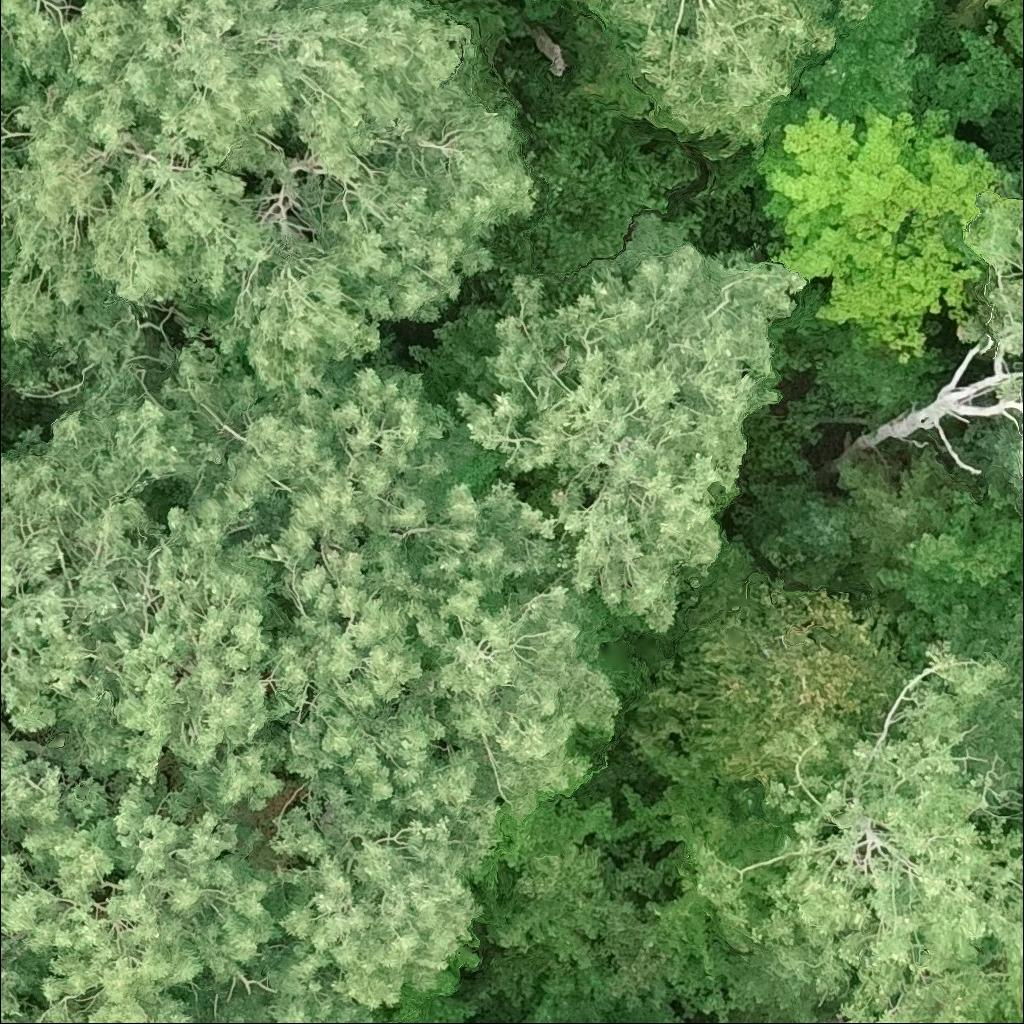crown: (161, 341, 623, 872), (0, 0, 541, 397), (404, 210, 812, 638), (0, 381, 301, 822), (0, 772, 483, 1023), (697, 637, 1023, 1006), (744, 97, 1011, 365), (626, 573, 910, 788), (580, 0, 878, 164), (871, 490, 1023, 614), (857, 340, 1023, 448), (793, 0, 935, 112), (729, 482, 858, 590), (830, 445, 936, 574), (0, 0, 88, 130), (840, 954, 1005, 1023), (0, 709, 74, 852), (965, 195, 1023, 363), (198, 988, 386, 1023), (965, 414, 1023, 508), (0, 944, 35, 1023), (0, 327, 44, 386), (983, 0, 1023, 12), (1019, 576, 1023, 597)
